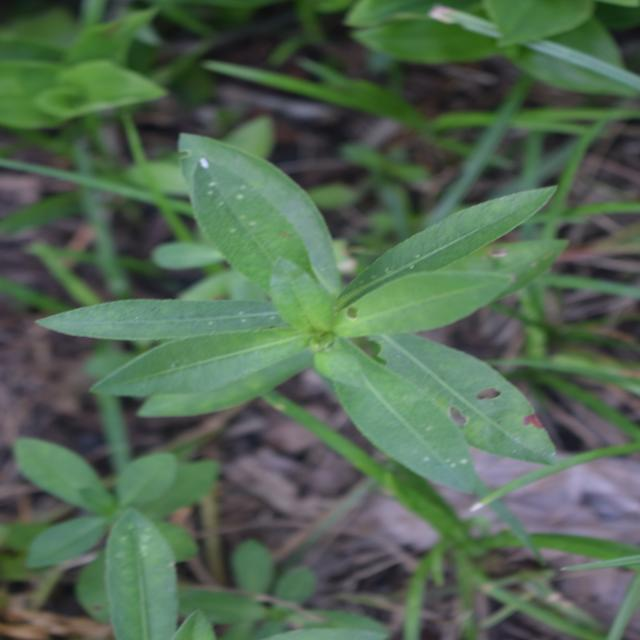Alligatorweed: (182, 24, 473, 560)
